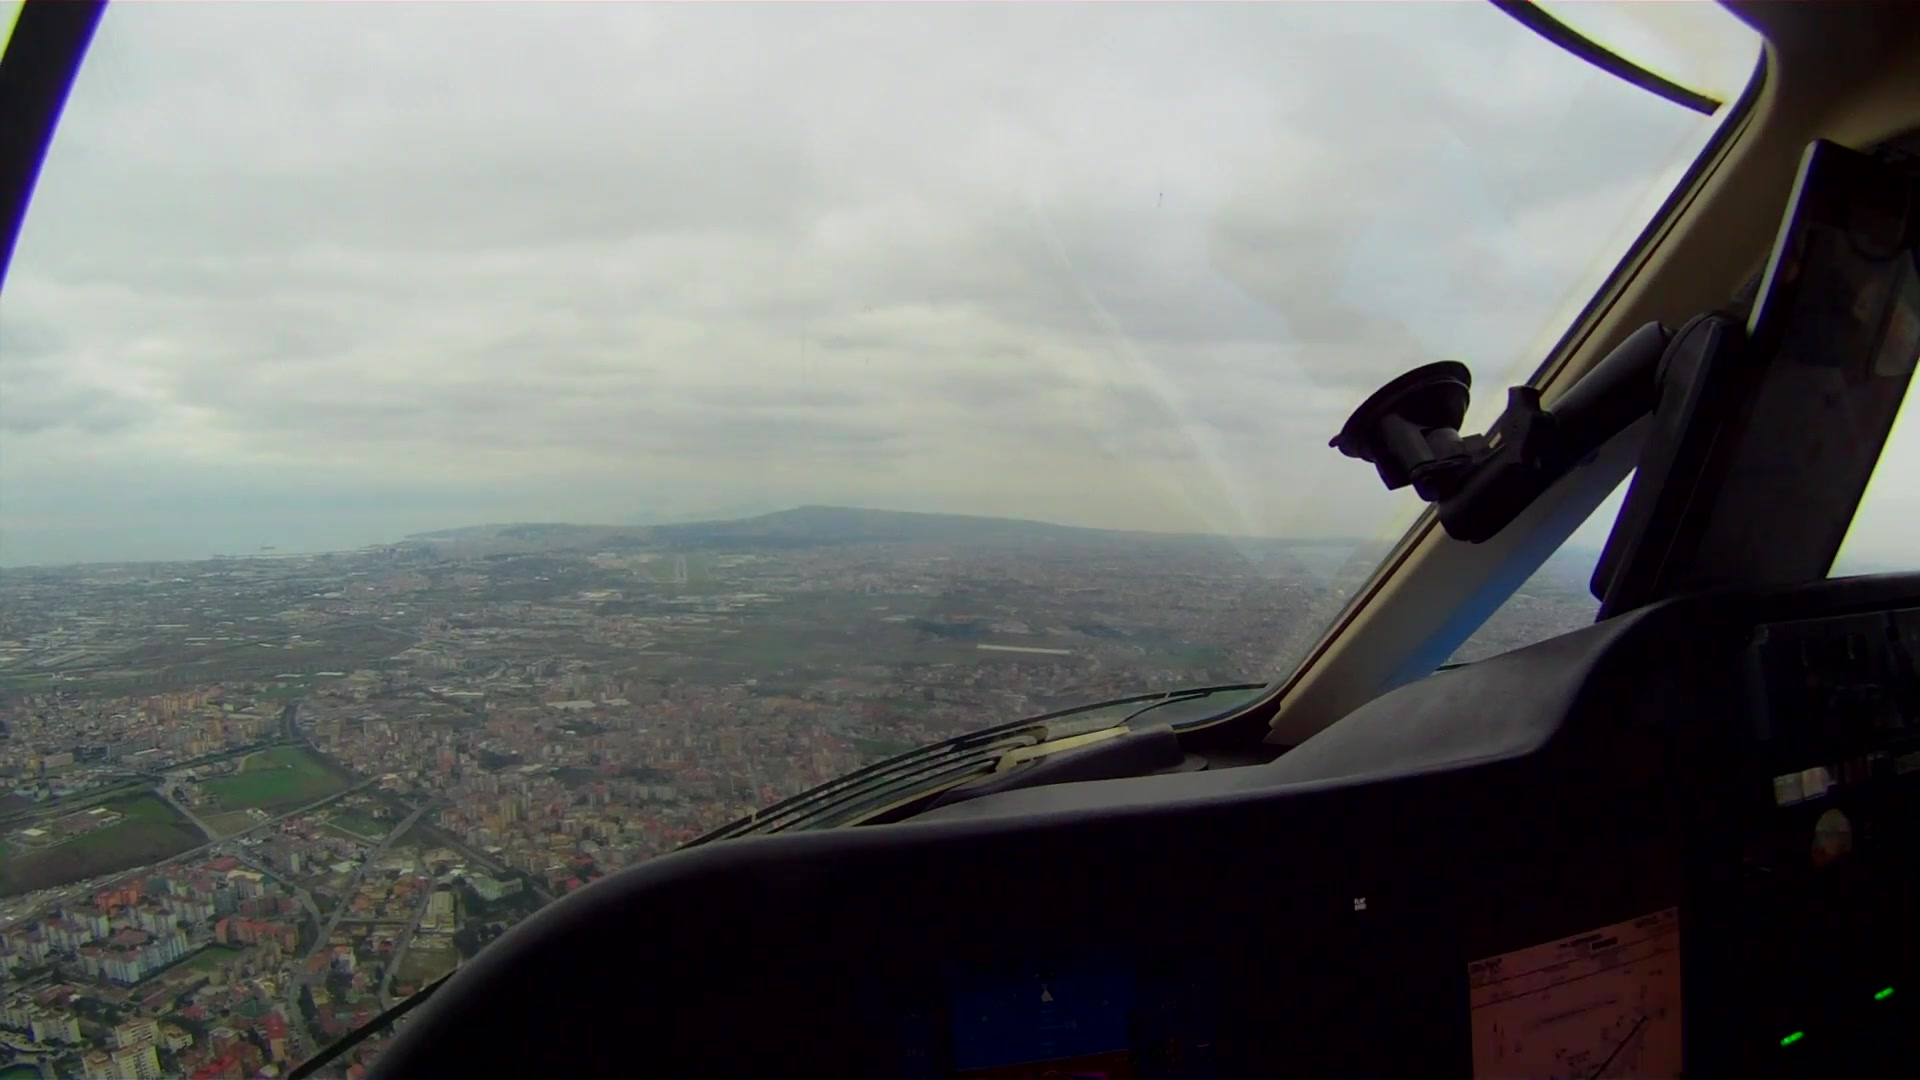runway: (673, 551, 690, 585)
